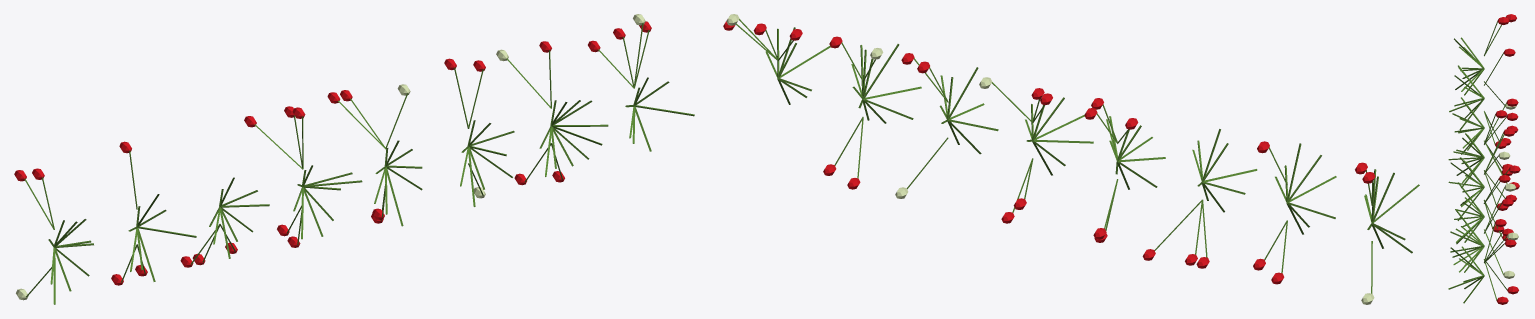
File: r31c2_rest.obj
3 renders of one model, left to right at view 1: azimuth 30°, elevation 25°; view 2: azimuth 150°, elevation 25°; view 3: azimuth 270°, elevation 25°, orthographic. The views are drawn at different scales.
Parts seen in each view (by area): view 1: r31c2_rest; view 2: r31c2_rest; view 3: r31c2_rest.
Part boxes in pixels (<box>): r31c2_rest: <box>14,14,694,304</box>; r31c2_rest: <box>723,14,1419,304</box>; r31c2_rest: <box>1448,14,1520,304</box>.
Size of the model in its own units: 1.94 by 0.4057 by 0.259.
